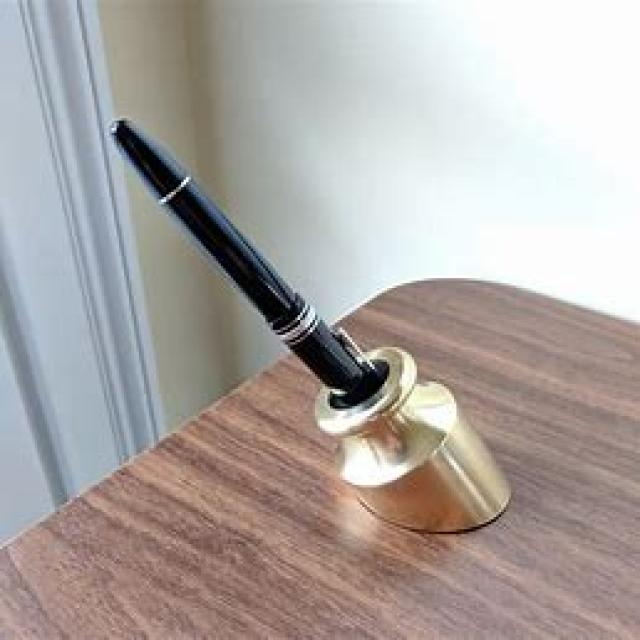pen: (106, 114, 381, 403)
